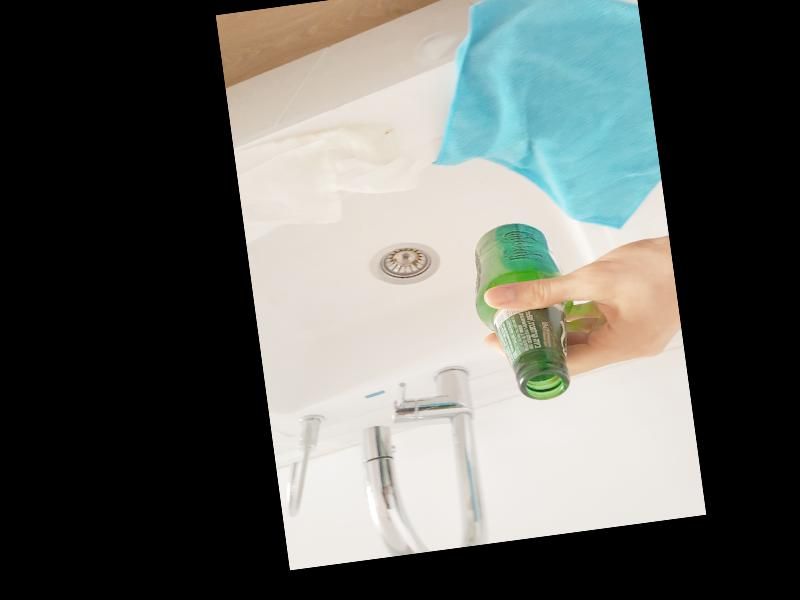Beer: (464, 216, 583, 406)
